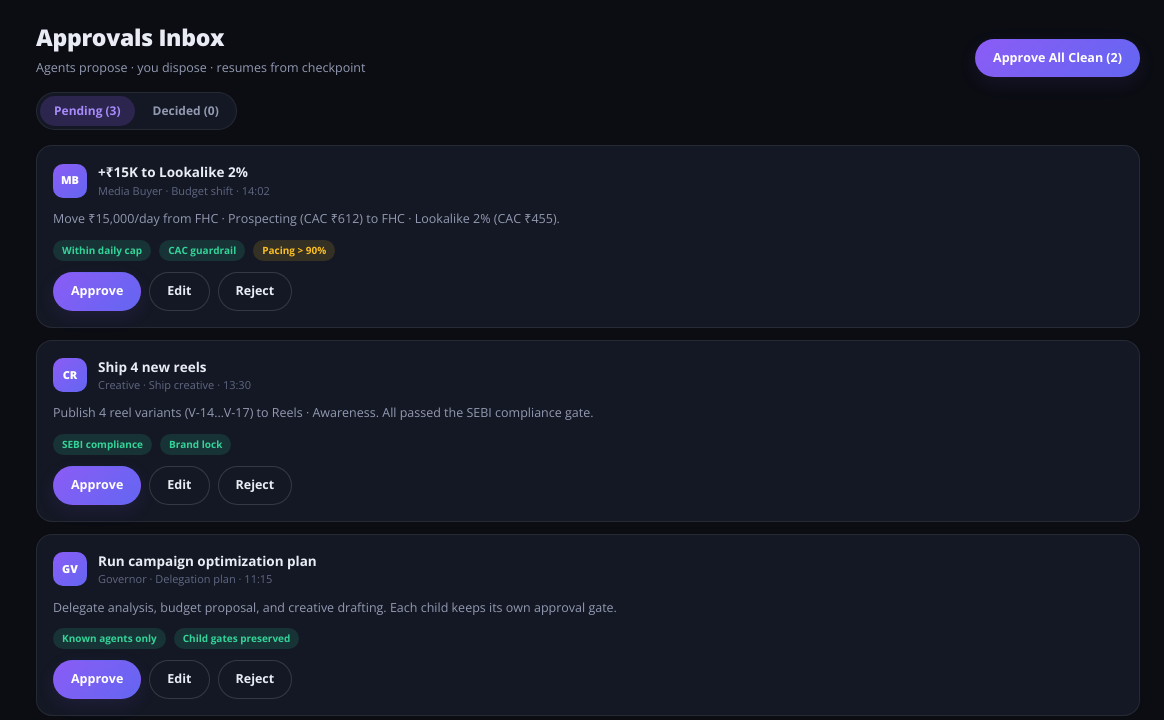
Test: ApprovalsView › approving removes the item and decrements the pending count
Expected: the text "+₹15K to Lookalike 2%" is shown, [98,162,270,183]
Click the button "Approve" below "Within daily cap" at coordinates (97, 291), box [53,272,141,311]
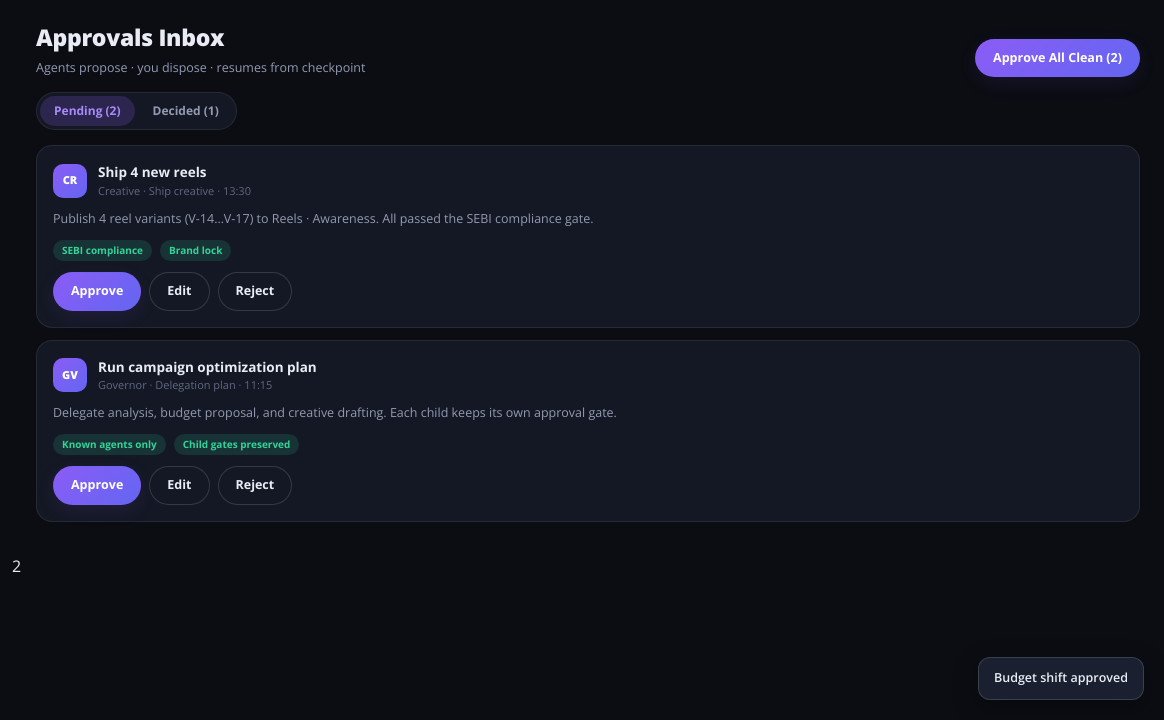
Now the text "+₹15K to Lookalike 2%" is gone
Now the text with test id "count" reads "2", box [12,555,21,577]
